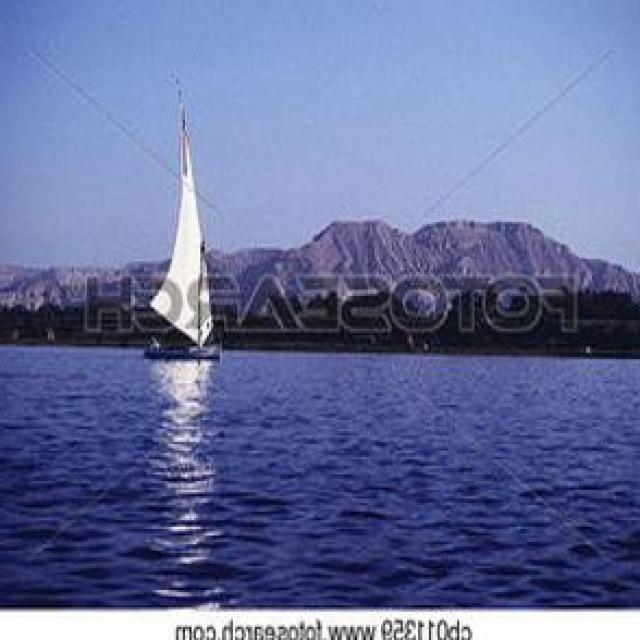sailboat: (138, 89, 248, 367)
